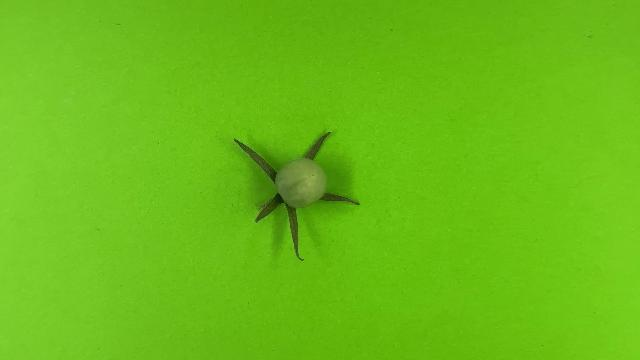Fruit Maturation: (273, 157, 329, 209)
